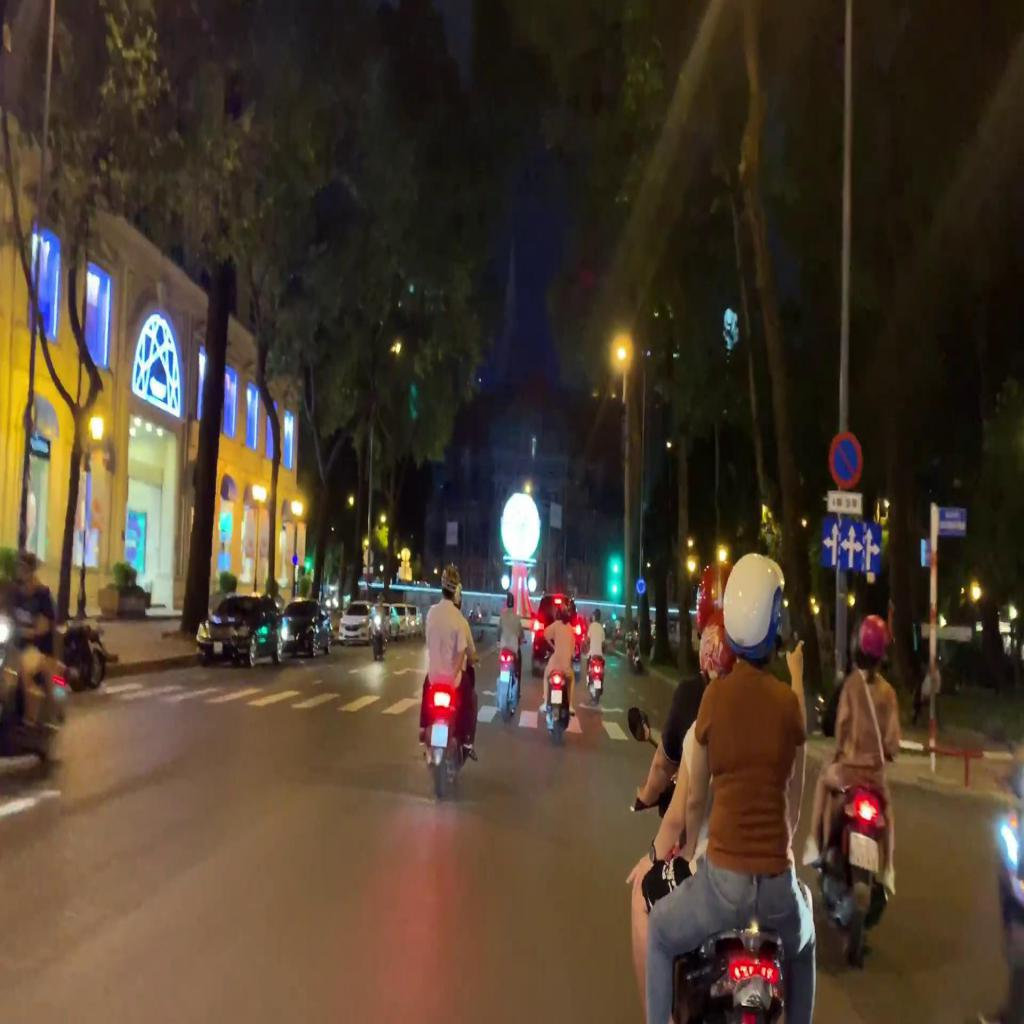cam_do_xe: (829, 434, 859, 484)
huong_di_tren_moi_lan_duong_theo_vach_ke_duong: (823, 515, 881, 571)
khac: (830, 491, 861, 512)
noi_giao_nhau_chay_theo_vong: (636, 578, 646, 594)
